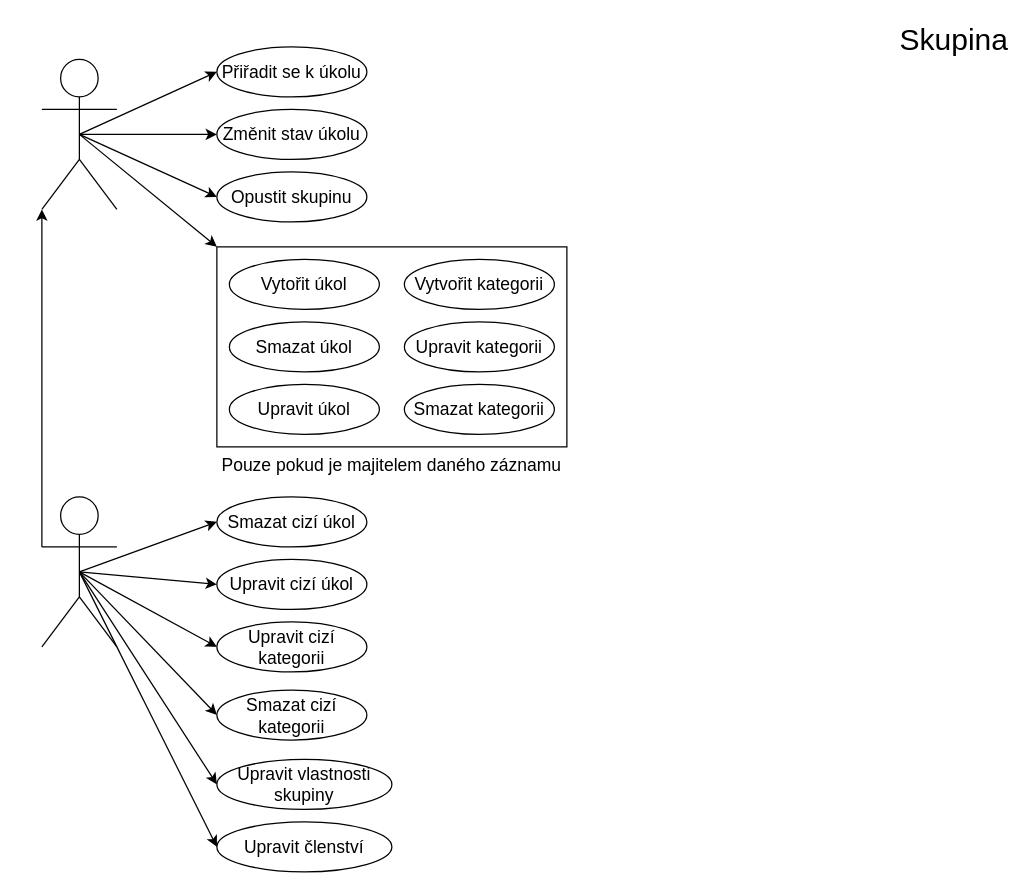
This 1030x894 diagram has some shape labels left out. The centre of each missing label's shape, as x and y in pixels:
"Majitel skupiny" belongs at pixel 79 571.
"Člen" belongs at pixel 79 133.
